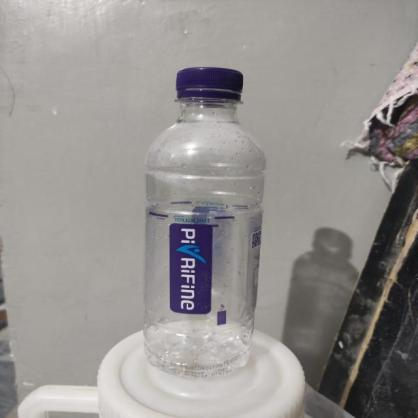bottle: (141, 64, 267, 376)
cap: (176, 65, 243, 104)
label: (144, 205, 262, 370)
